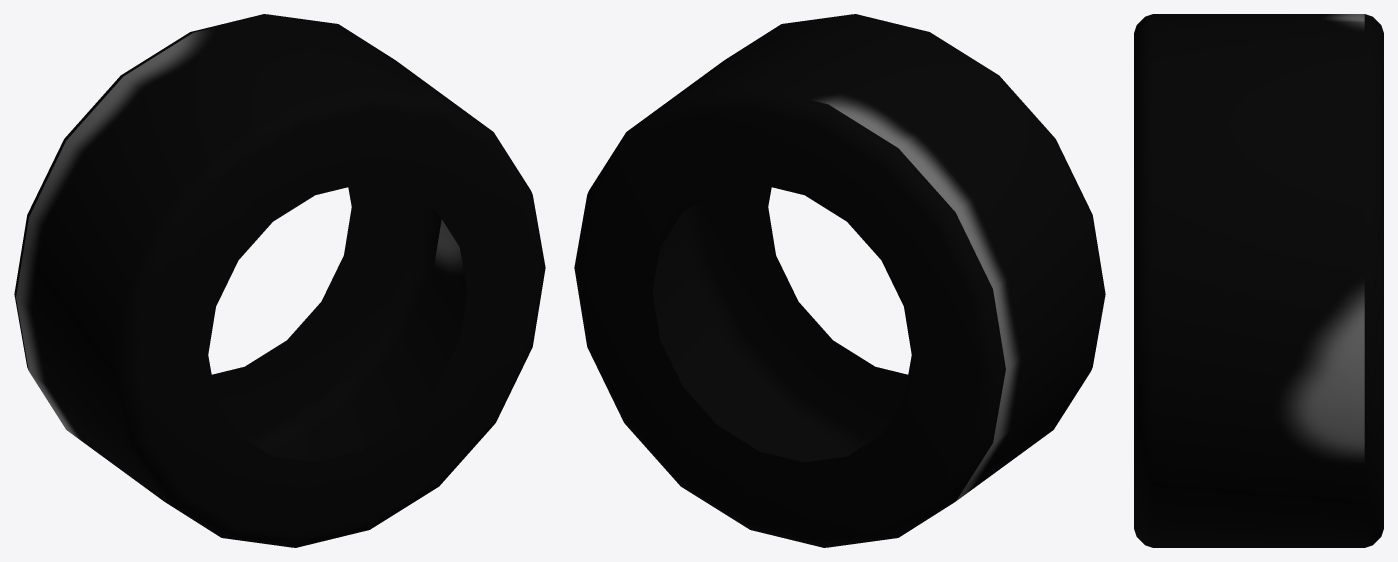
File: MoturWheel.obj
3 views of the same model, side by side, from view 1: azimuth 30°, elevation 25°; view 2: azimuth 150°, elevation 25°; view 3: azimuth 270°, elevation 25° (orthographic). The views are drawn at different scales.
Visible parts, largest first — view 1: FrontWheel; view 2: FrontWheel; view 3: FrontWheel.
Boxes of the visible parts, x1=… form: FrontWheel: x1=14, y1=14, x2=545, y2=547; FrontWheel: x1=574, y1=14, x2=1105, y2=547; FrontWheel: x1=1134, y1=14, x2=1383, y2=547.
Size of the model in its own units: 2.24 by 2.2 by 1.04.
Materials: 1 (1 with a texture image).
